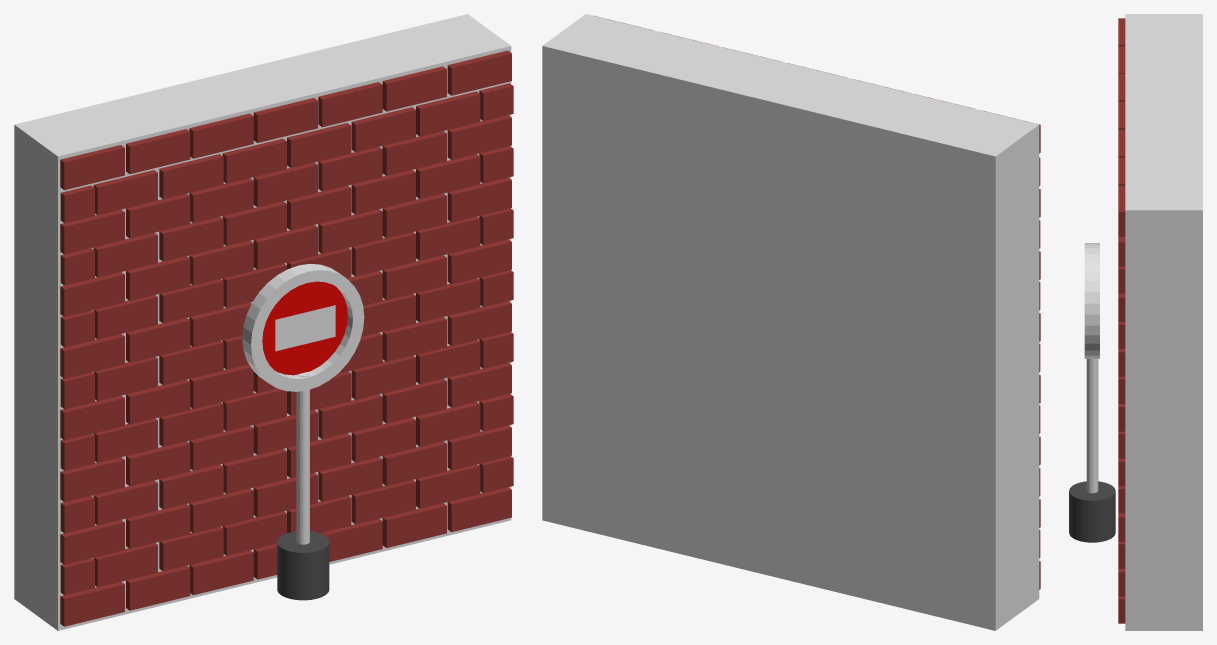
The model's file is black_a_ci.glb.
3 renders of one model, left to right at view 1: azimuth 30°, elevation 25°; view 2: azimuth 150°, elevation 25°; view 3: azimuth 270°, elevation 25°, orthographic. The views are drawn at different scales.
Parts seen in each view (by area): view 1: Cube; view 2: Cube; view 3: Cube.
Part boxes in pixels (x1,y1,x2,y2): Cube: (14,14,513,630); Cube: (542,14,1040,630); Cube: (1069,14,1202,630).
Bounding box in the file's own units: 6 × 6 × 1.73.
